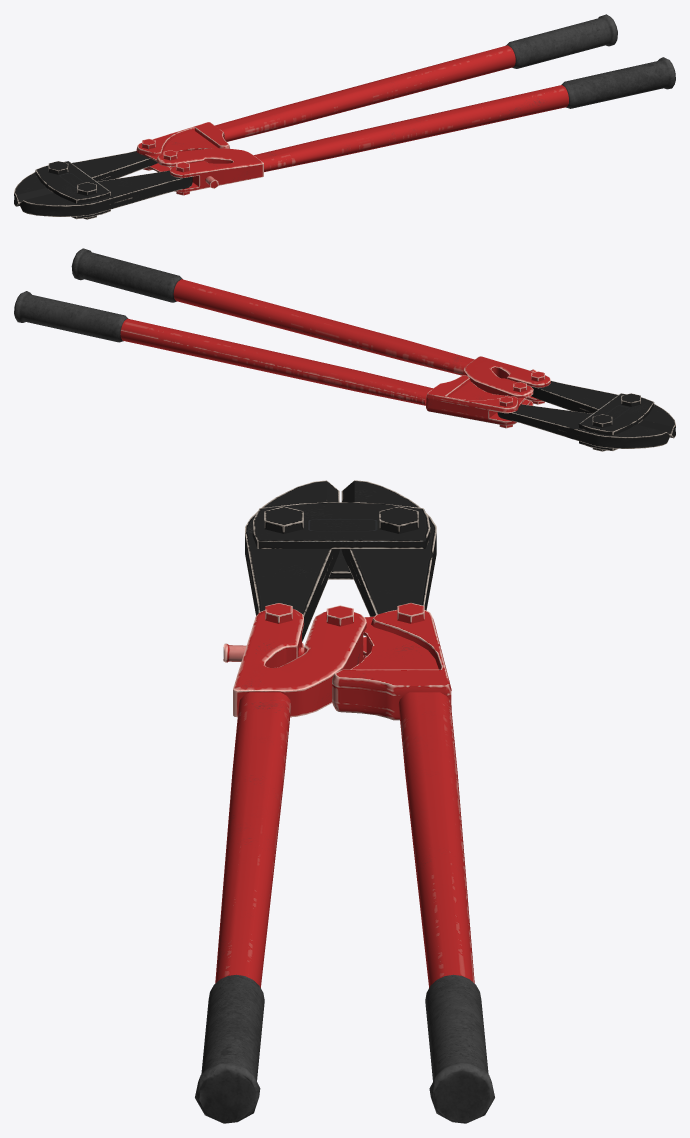
The model's file is bolt_cutter_low-poly.glb.
3 renders of one model, top to bottom at view 1: azimuth 30°, elevation 25°; view 2: azimuth 150°, elevation 25°; view 3: azimuth 270°, elevation 25°, orthographic. The views are drawn at different scales.
Visible parts, largest first — view 1: bolt_cutter_bolt_cutter_0; view 2: bolt_cutter_bolt_cutter_0; view 3: bolt_cutter_bolt_cutter_0.
Boxes of the visible parts, x1=… form: bolt_cutter_bolt_cutter_0: x1=14, y1=14, x2=675, y2=219; bolt_cutter_bolt_cutter_0: x1=14, y1=248, x2=675, y2=451; bolt_cutter_bolt_cutter_0: x1=195, y1=480, x2=494, y2=1123.
Size of the model in its own units: 2.17 by 0.1 by 0.4547.
Materials: 1 (1 with a texture image).
